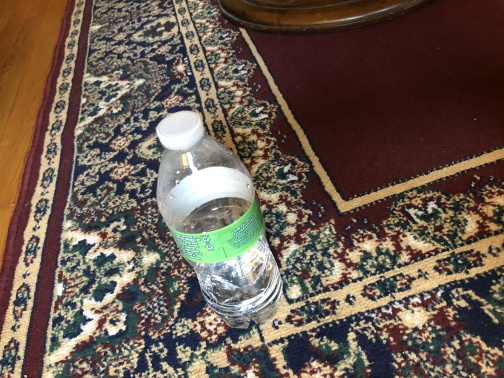bottle: (153, 109, 285, 332)
